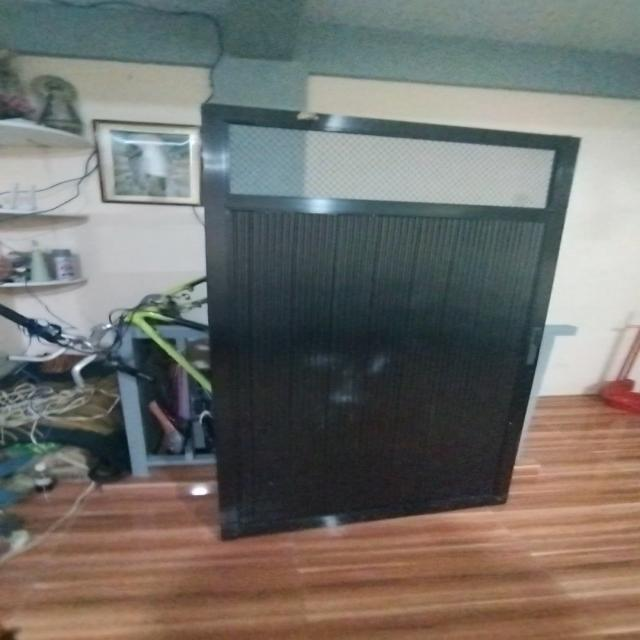door: (191, 97, 579, 543)
